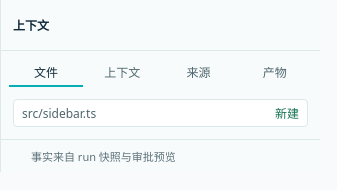
Test: ContextDrawer › Artifacts：产出 kind 与标题
The image size is (337, 190).
Click the tab with test id "context-tab-artifacts" at {"x": 275, "y": 73}, box [238,59,312,87]
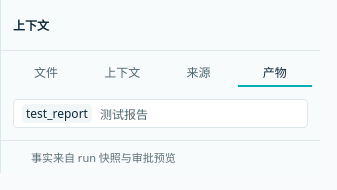
Expected: the element with test id "context-pane-artifacts" shows "test_report", [26,105,88,122]
Expected: the element with test id "context-pane-artifacts" shows "测试报告", [100,106,148,122]
